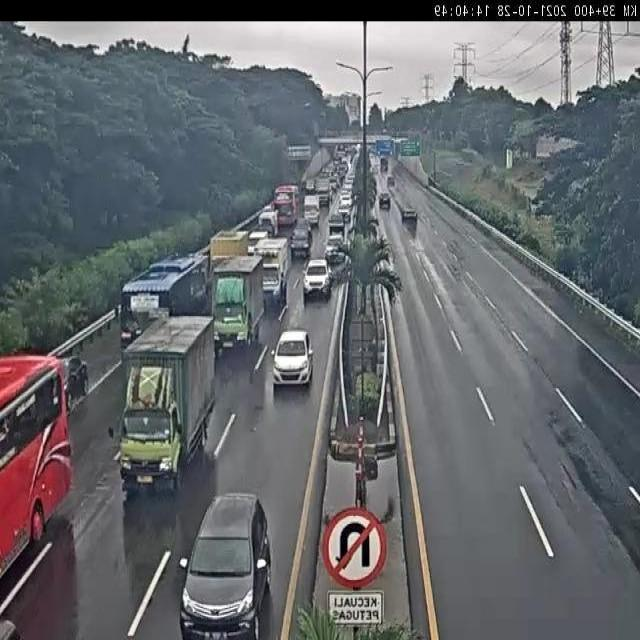Bus: (1, 355, 74, 602), (112, 252, 212, 361), (271, 186, 300, 230)
Car: (176, 490, 274, 640), (272, 328, 314, 388), (302, 258, 331, 300), (290, 224, 311, 259), (328, 211, 345, 235), (379, 191, 391, 208)
Truck: (117, 315, 215, 494), (211, 254, 270, 361), (251, 237, 290, 314), (210, 230, 251, 273), (303, 195, 321, 227), (315, 178, 331, 205)
